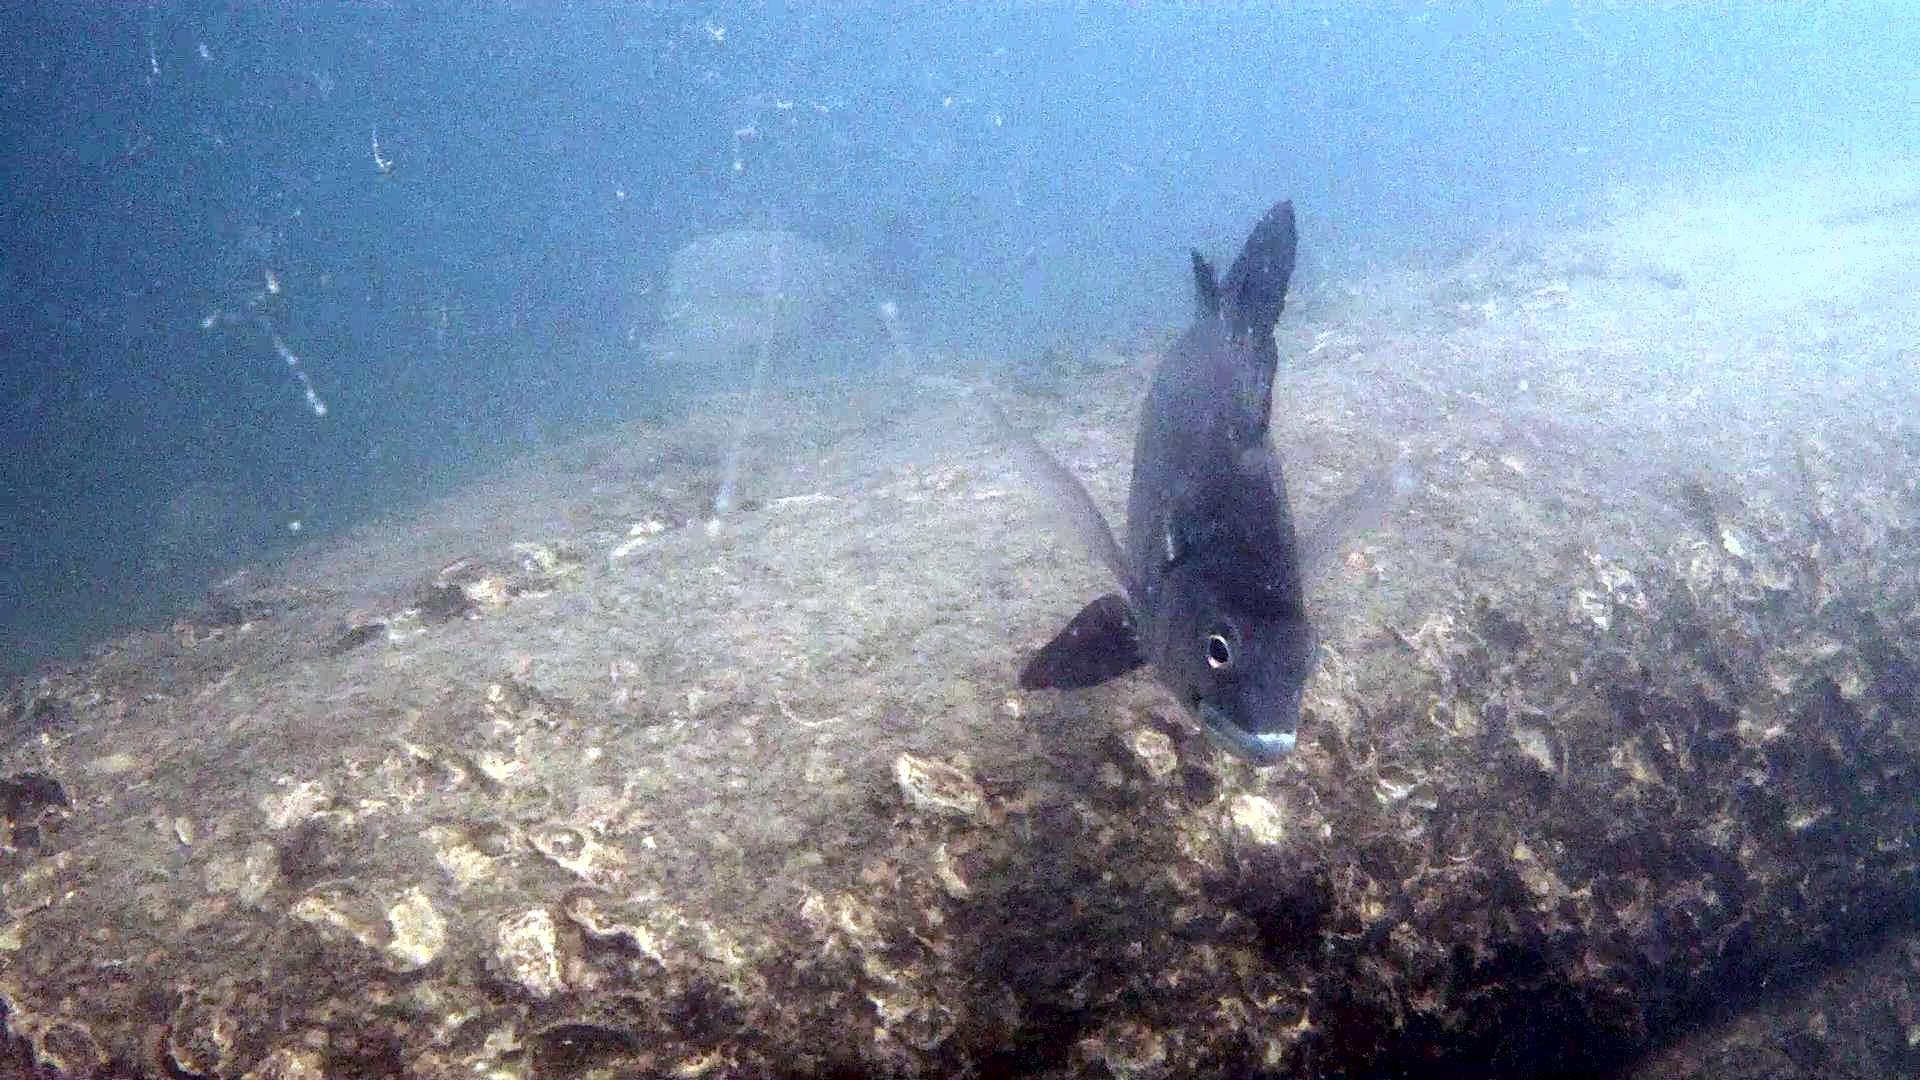acanthopagrus palmaris: (988, 194, 1428, 774)
